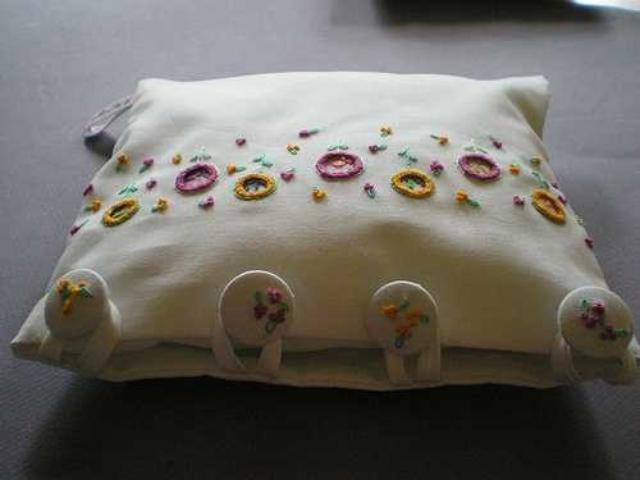pillow: (9, 70, 638, 390)
